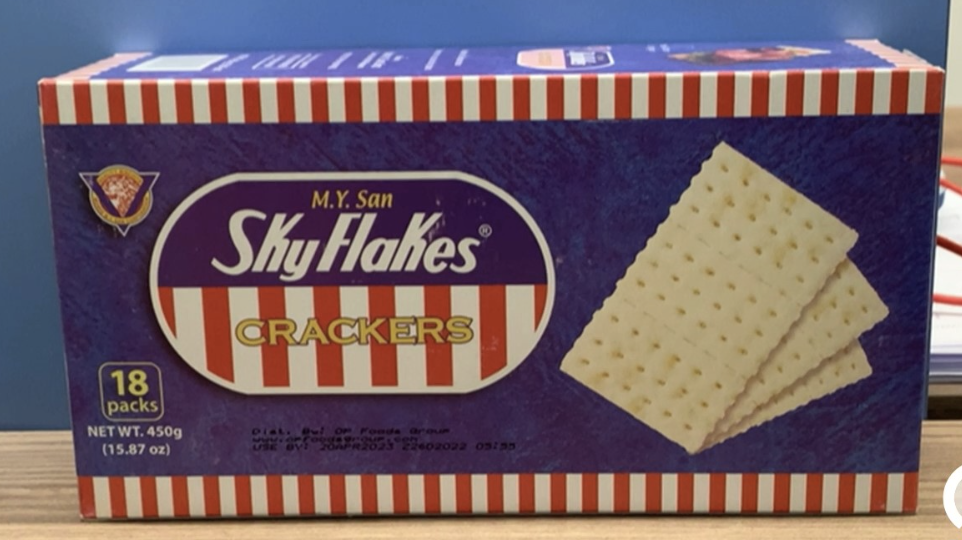crackers_400g-499g: (81, 87, 890, 488)
